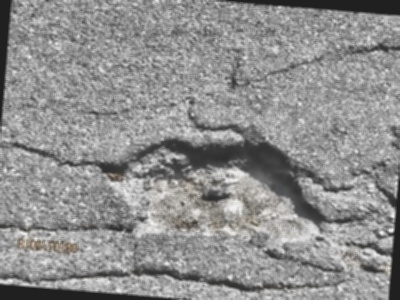pothole: (91, 122, 336, 252)
